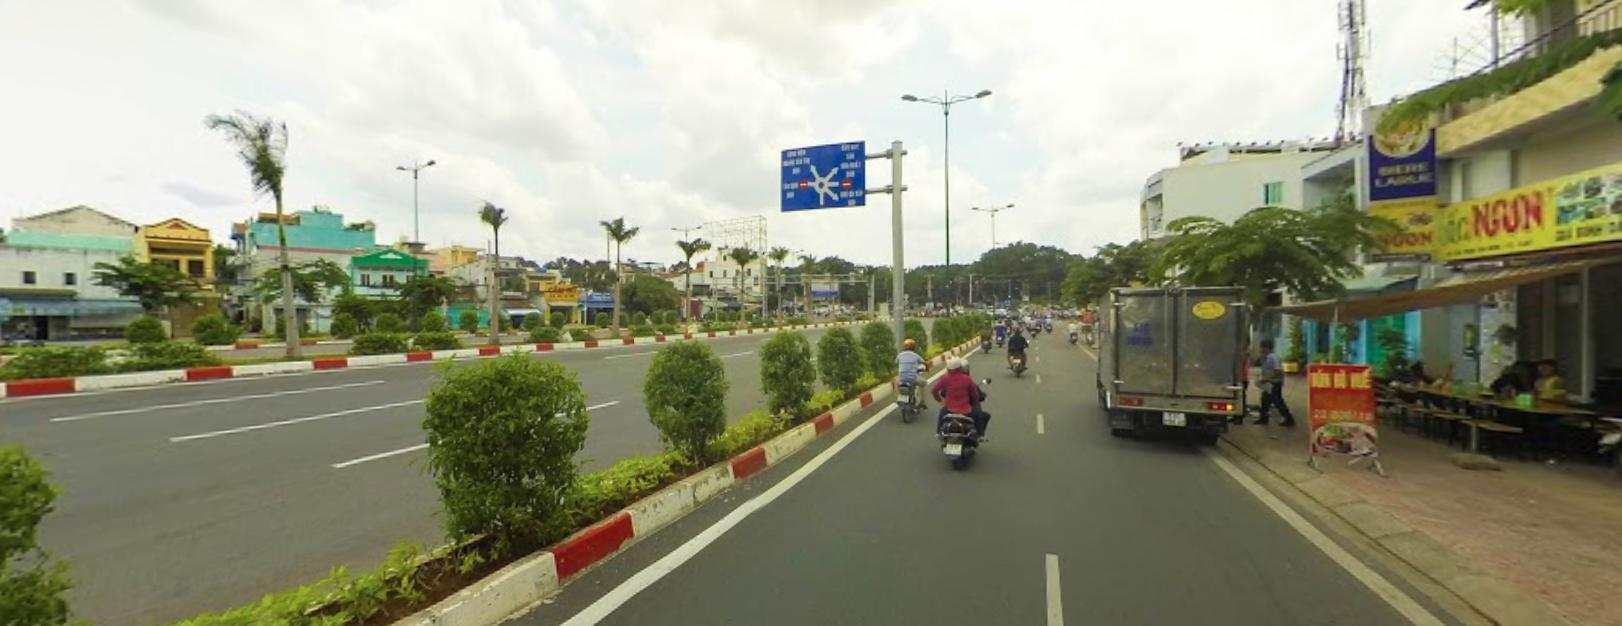Cam nguoc chieu: (840, 176, 851, 187), (799, 178, 808, 188)
